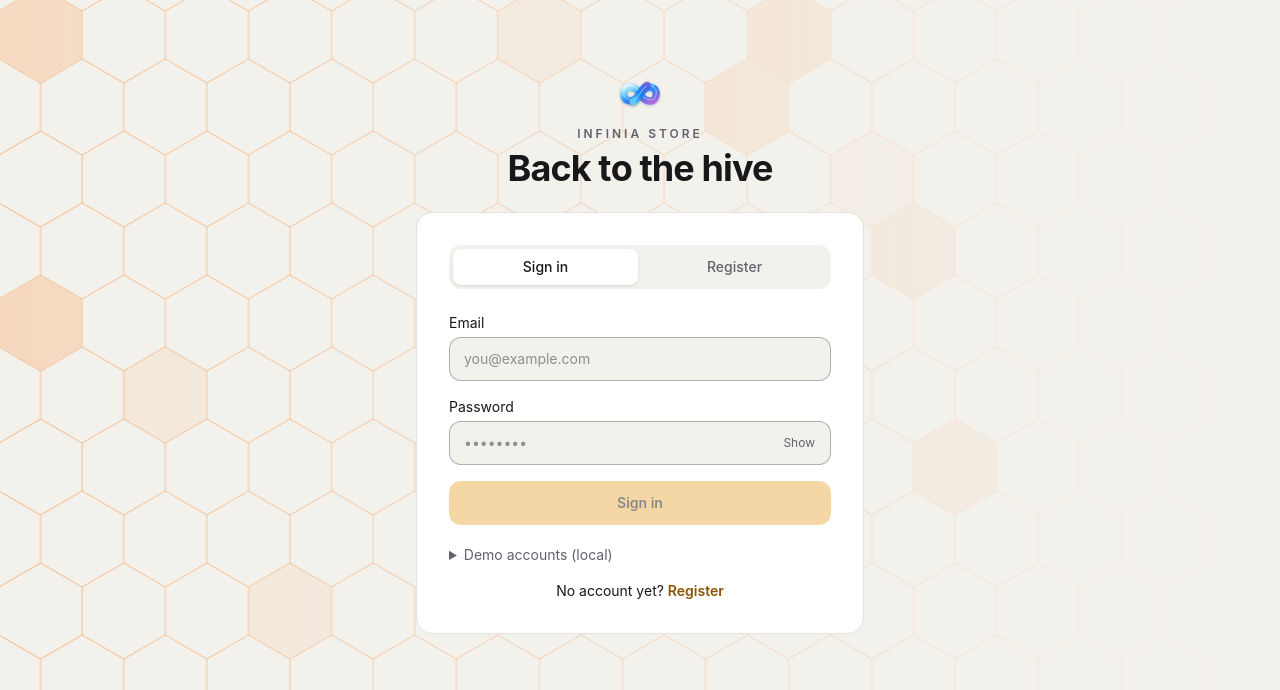
it: Sign-in invitation field (邀请注册) › maps invitation refusals to localized form errors
Click the tab "Register".
click(734, 267)  # box [642,249,827,285]
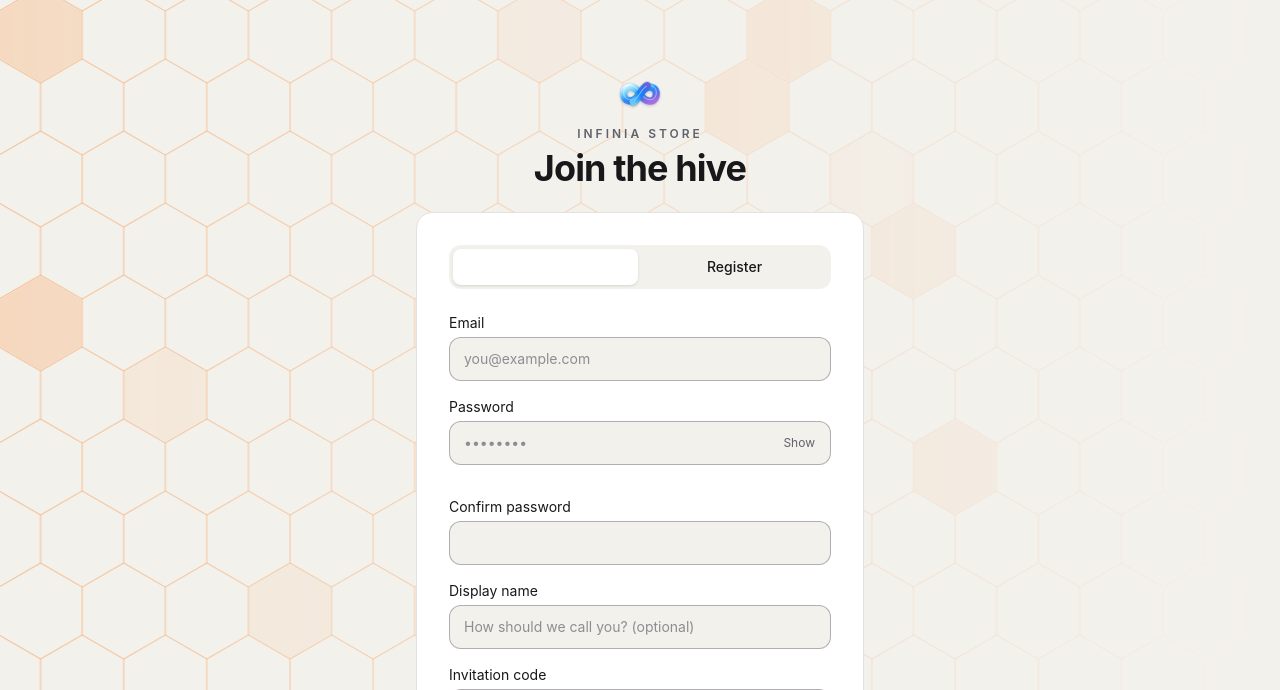
Type "newbee@example.com" into the field labelled "Email".
click(640, 359); type("newbee@example.com")  # box [449,337,831,381]
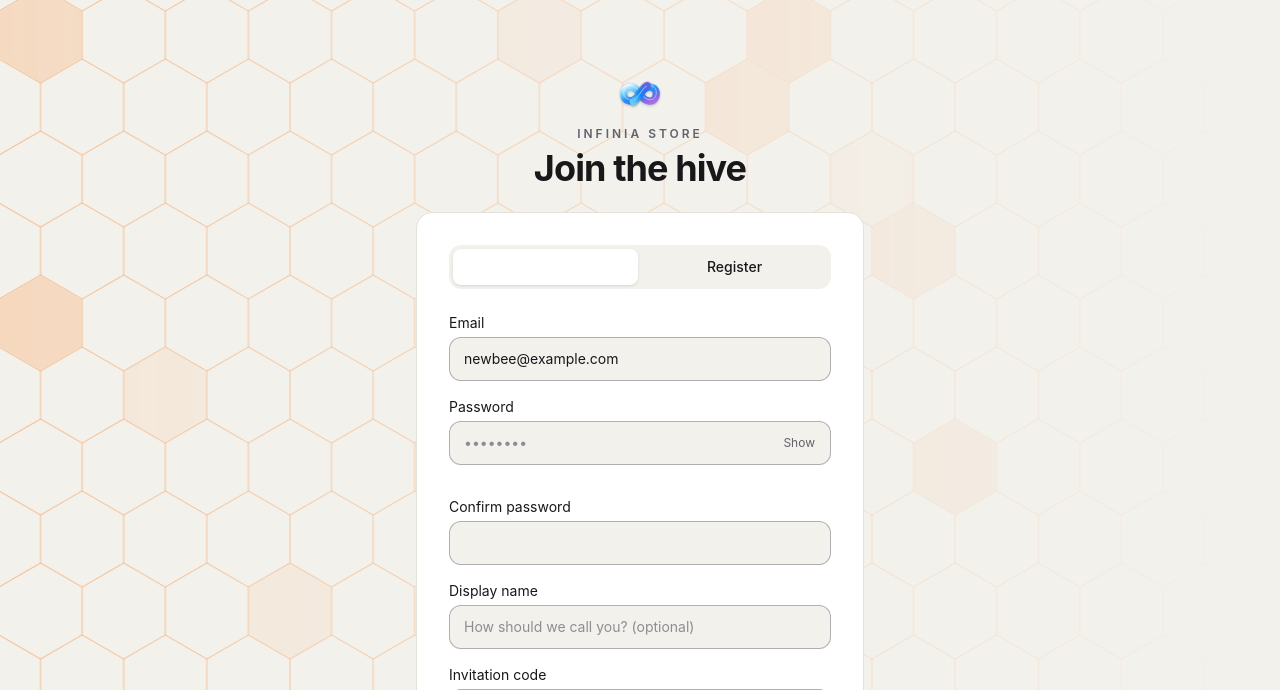
Type "Password123!" into the password field labelled "Password Show".
click(640, 443); type("Password123!")  # box [449,421,831,465]
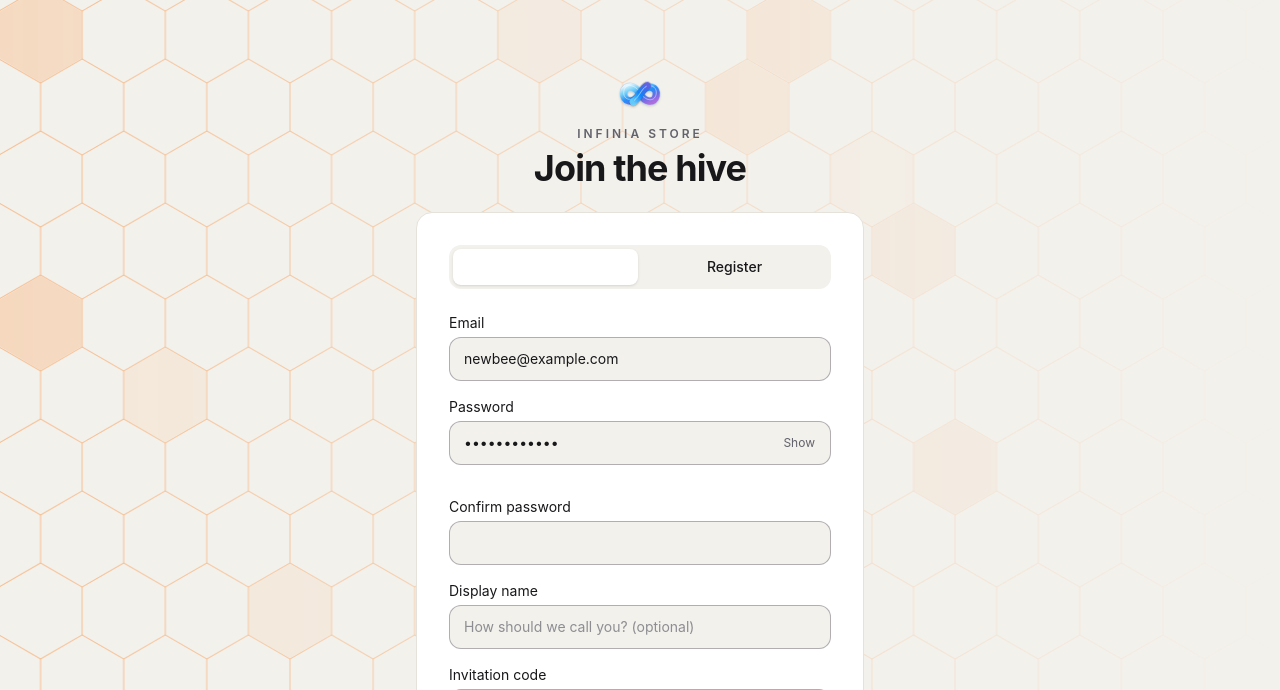
Type "Password123!" into the password field labelled "Confirm password".
click(640, 543); type("Password123!")  # box [449,521,831,565]
(page scrolled)
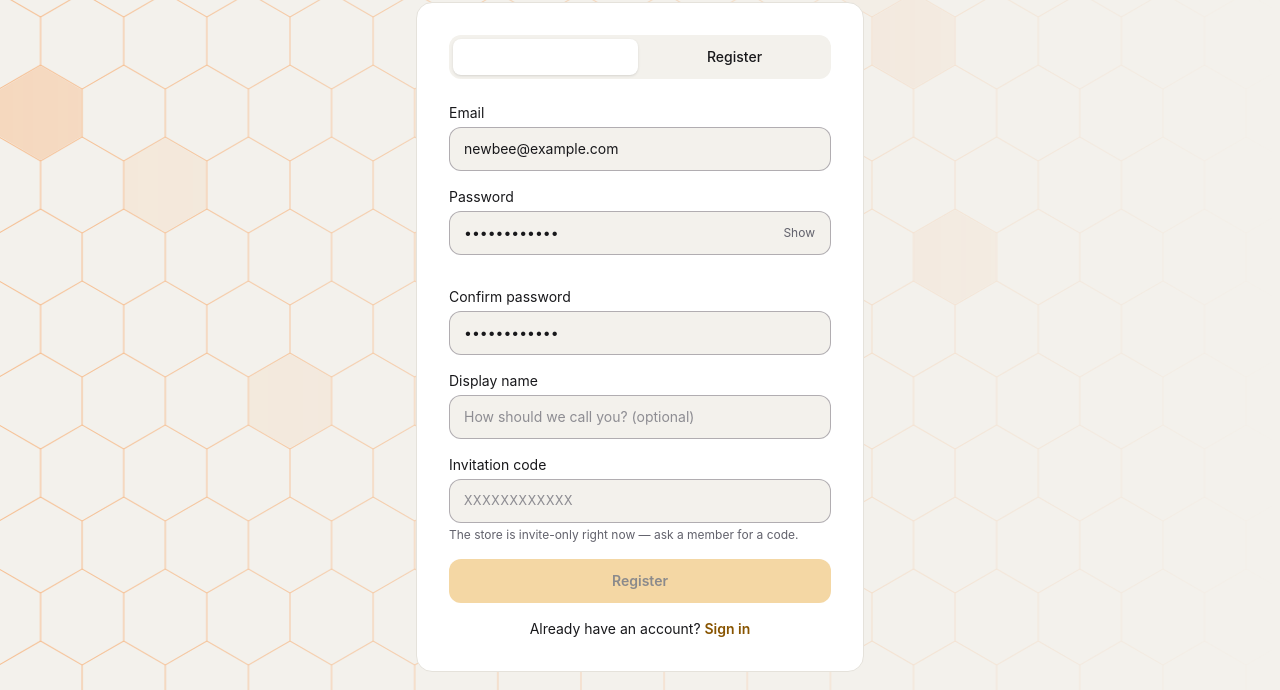
Type "USEDUPCODE1" into the 3rd field.
click(640, 501); type("USEDUPCODE1")  # box [449,479,831,523]
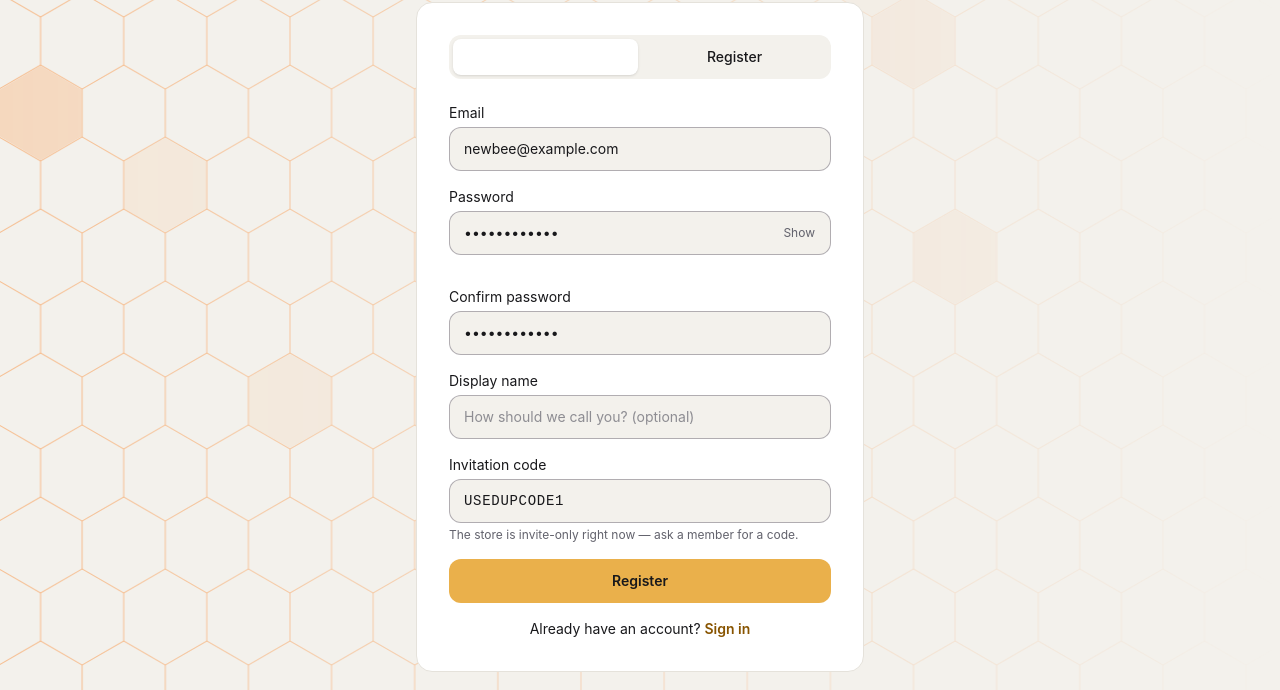
Submit the form, box [449,103,831,603]
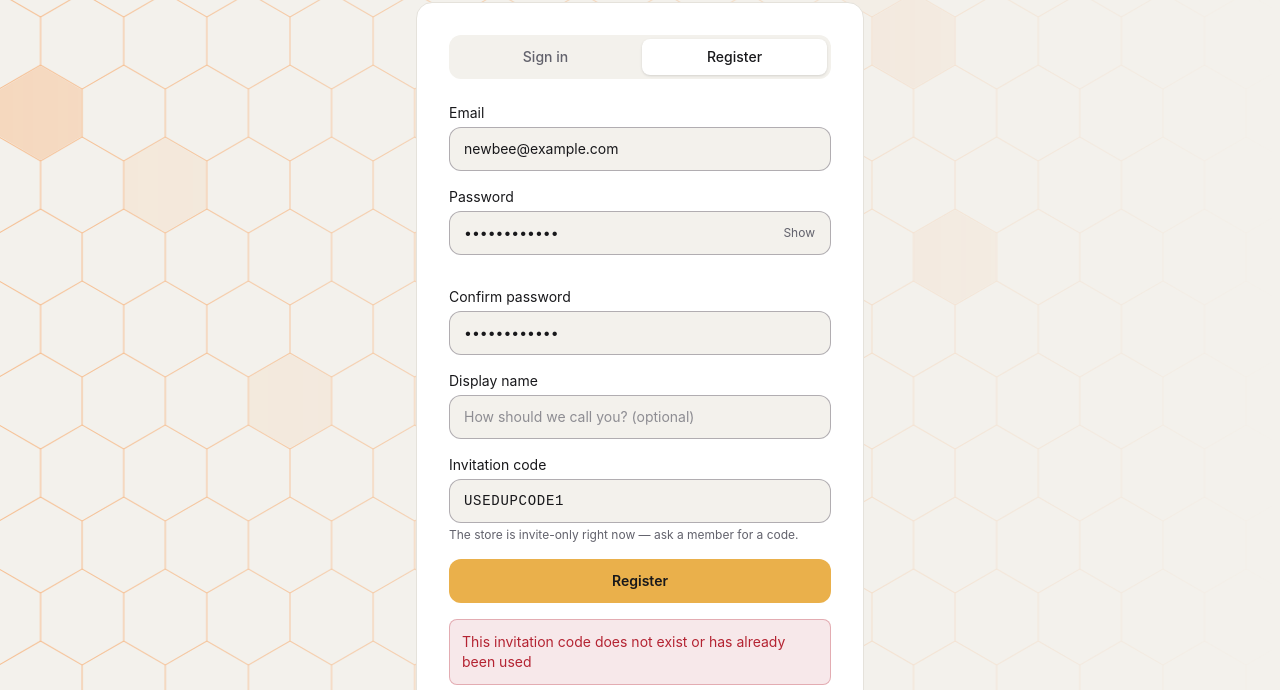
Now the text "This invitation code does not exist or has already been used" is shown, box [449,619,831,685]
